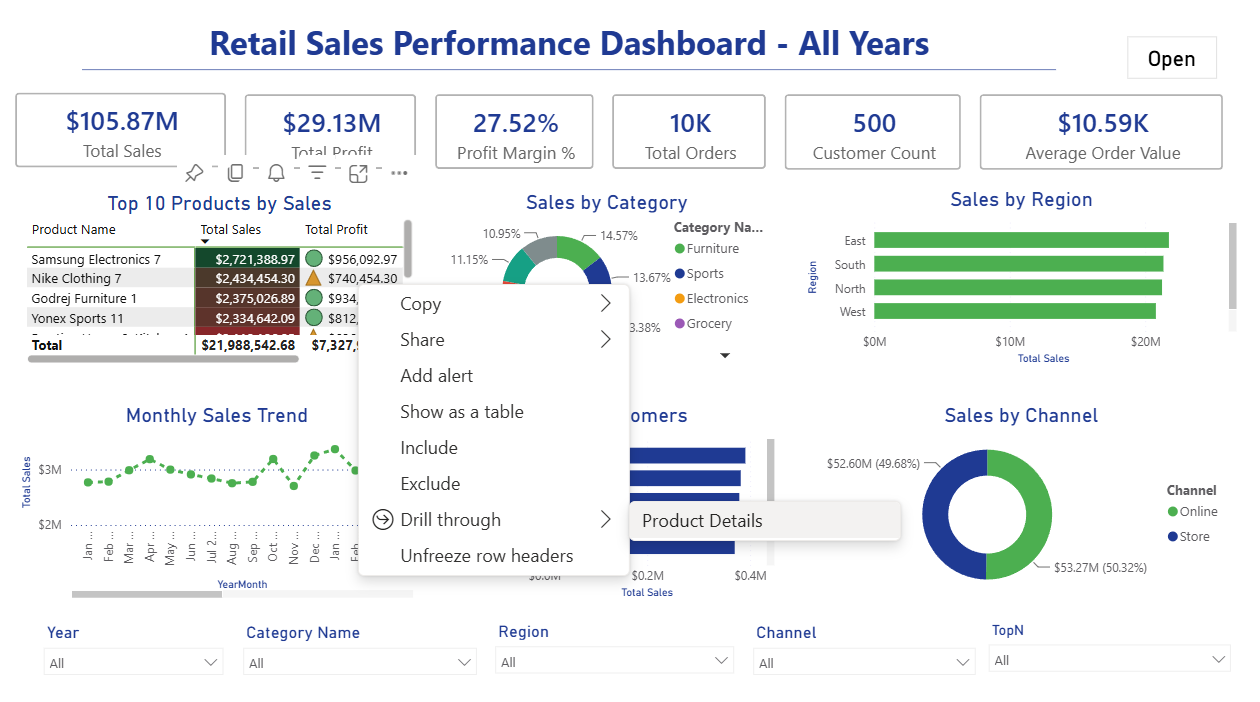

Layout of this report page (visuals, bound fields, positions):
{"tool":"powerbi","page":{"name":"Retail sales Dashboard","canvas":[1280,720],"ordinal":0},"visuals":[{"type":"cardVisual","fields":{"Data":["_Measures.Total Sales"]},"box":[0,81.1,248.3,110],"z":0},{"type":"cardVisual","fields":{"Data":["_Measures.Total Profit"]},"box":[233,81.7,208.3,110],"z":1000},{"type":"cardVisual","fields":{"Data":["_Measures.Profit Margin %"]},"box":[426,81.7,195,110],"z":2000},{"type":"cardVisual","fields":{"Data":["_Measures.Total Orders"]},"box":[605.6,81.7,190,110],"z":3000},{"type":"cardVisual","fields":{"Data":["_Measures.Customer Count"]},"box":[780.2,81.7,213.3,111.7],"z":4000},{"type":"cardVisual","fields":{"Data":["_Measures.Average Order Value"]},"box":[978.2,81.7,281.5,111.3],"z":5000},{"type":"textbox","box":[85.8,24.7,988,56.1],"z":6000},{"type":"lineChart","title":"Monthly Sales Trend","fields":{"Category":["Date.YearMonth"],"Y":["_Measures.Total Sales"]},"box":[18.1,412.4,407.4,202.9],"z":7000},{"type":"donutChart","title":"Sales by Category","fields":{"Category":["Categories.Category Name"],"Y":["_Measures.Total Sales"]},"box":[442.1,196.3,349.7,181.4],"z":8000},{"type":"pivotTable","fields":{"Rows":["Products.Product Name"],"Values":["_Measures.Total Sales","_Measures.Total Profit","_Measures.Show Top N"]},"box":[24.7,197.9,400.8,179.8],"z":8500},{"type":"clusteredBarChart","title":"Sales by Region","fields":{"Category":["Regions.Region"],"Y":["_Measures.Total Sales"]},"box":[814.8,193,445.4,184.7],"z":9000},{"type":"clusteredBarChart","title":"Top 10 Customers","fields":{"Category":["Customers.Customer Name"],"Y":["_Measures.Total Sales"]},"box":[442.1,412.4,349.7,202.9],"z":10000},{"type":"donutChart","title":"Sales by Channel","fields":{"Category":["Sales.Channel"],"Y":["_Measures.Total Sales"]},"box":[815,411.7,445,203.3],"z":11000},{"type":"slicer","title":"Year mode slicer","fields":{"Values":["Date.Date.Variation.Date Hierarchy.Year"]},"box":[36.7,630,201.7,71.7],"z":12000},{"type":"slicer","title":"Category name slicer","fields":{"Values":["Categories.Category Name"]},"box":[238.3,630,256.7,76.7],"z":13000},{"type":"slicer","title":"Region mode slicer","fields":{"Values":["Regions.Region"]},"box":[495,628.3,261.7,78.3],"z":14000},{"type":"slicer","title":"Channel mode slicer","fields":{"Values":["Sales.Channel"]},"box":[756.7,630,245,71.7],"z":15000},{"type":"actionButton","title":"Open button","box":[1144.7,41.2,90.7,42.9],"z":21000},{"type":"slicer","fields":{"Values":["TopN.TopN"]},"box":[994.1,629.9,265.6,76.3],"z":25000}]}

Visuals, with their boxes on the page's 1280x720 design canvas (x1, y1, x2, y2). These are canvas units, not pixel positions in the 1260x702 screenshot, which may show the page scaled, cropped or inside an application window:
cardVisual - _Measures.Total Sales: [x1=0, y1=81, x2=248, y2=191]
cardVisual - _Measures.Total Profit: [x1=233, y1=82, x2=441, y2=192]
cardVisual - _Measures.Profit Margin %: [x1=426, y1=82, x2=621, y2=192]
cardVisual - _Measures.Total Orders: [x1=606, y1=82, x2=796, y2=192]
cardVisual - _Measures.Customer Count: [x1=780, y1=82, x2=994, y2=193]
cardVisual - _Measures.Average Order Value: [x1=978, y1=82, x2=1260, y2=193]
textbox: [x1=86, y1=25, x2=1074, y2=81]
"Monthly Sales Trend" lineChart: [x1=18, y1=412, x2=426, y2=615]
"Sales by Category" donutChart: [x1=442, y1=196, x2=792, y2=378]
pivotTable - Products.Product Name x _Measures.Total Sales: [x1=25, y1=198, x2=426, y2=378]
"Sales by Region" clusteredBarChart: [x1=815, y1=193, x2=1260, y2=378]
"Top 10 Customers" clusteredBarChart: [x1=442, y1=412, x2=792, y2=615]
"Sales by Channel" donutChart: [x1=815, y1=412, x2=1260, y2=615]
"Year mode slicer" slicer: [x1=37, y1=630, x2=238, y2=702]
"Category name slicer" slicer: [x1=238, y1=630, x2=495, y2=707]
"Region mode slicer" slicer: [x1=495, y1=628, x2=757, y2=707]
"Channel mode slicer" slicer: [x1=757, y1=630, x2=1002, y2=702]
"Open button" actionButton: [x1=1145, y1=41, x2=1235, y2=84]
slicer - TopN.TopN: [x1=994, y1=630, x2=1260, y2=706]
